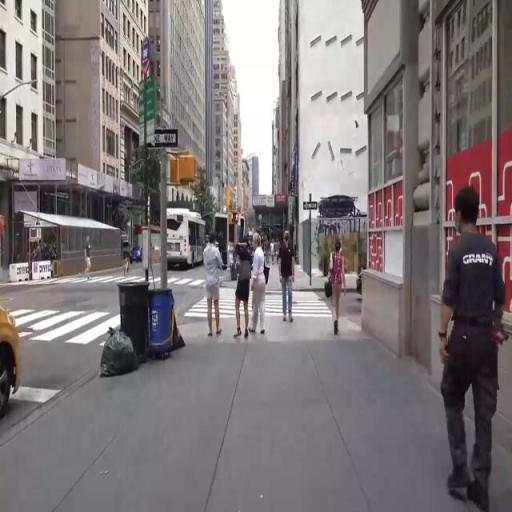person: (432, 189, 512, 512), (203, 227, 225, 333), (278, 226, 300, 325), (251, 228, 270, 342), (232, 238, 252, 346), (328, 240, 348, 346), (83, 237, 95, 288), (123, 235, 134, 278)
